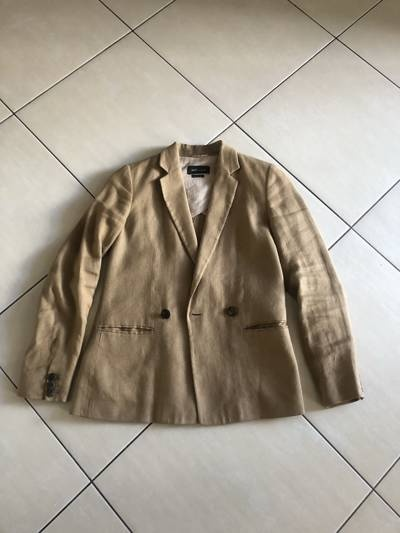Blazer: (3, 136, 372, 442)
